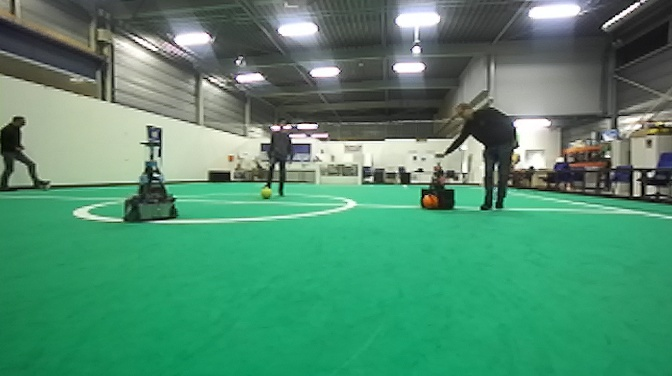ball: (421, 191, 440, 212), (260, 186, 272, 201)
goal: (315, 159, 363, 188)
goalpost: (315, 160, 321, 187), (357, 161, 363, 188)
human: (430, 100, 521, 213), (1, 112, 53, 195), (263, 116, 295, 200)
robot: (118, 135, 182, 224), (416, 153, 458, 212)
